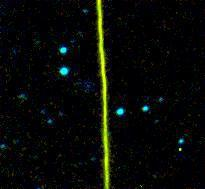star: (166, 133, 196, 163)
